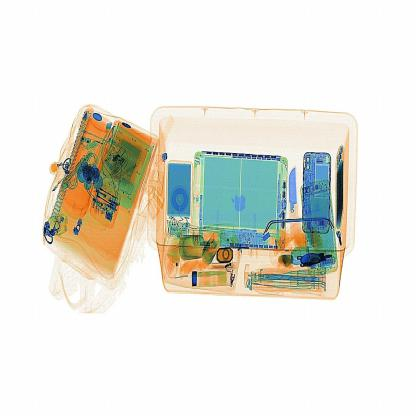wrench: (280, 154, 304, 241)
